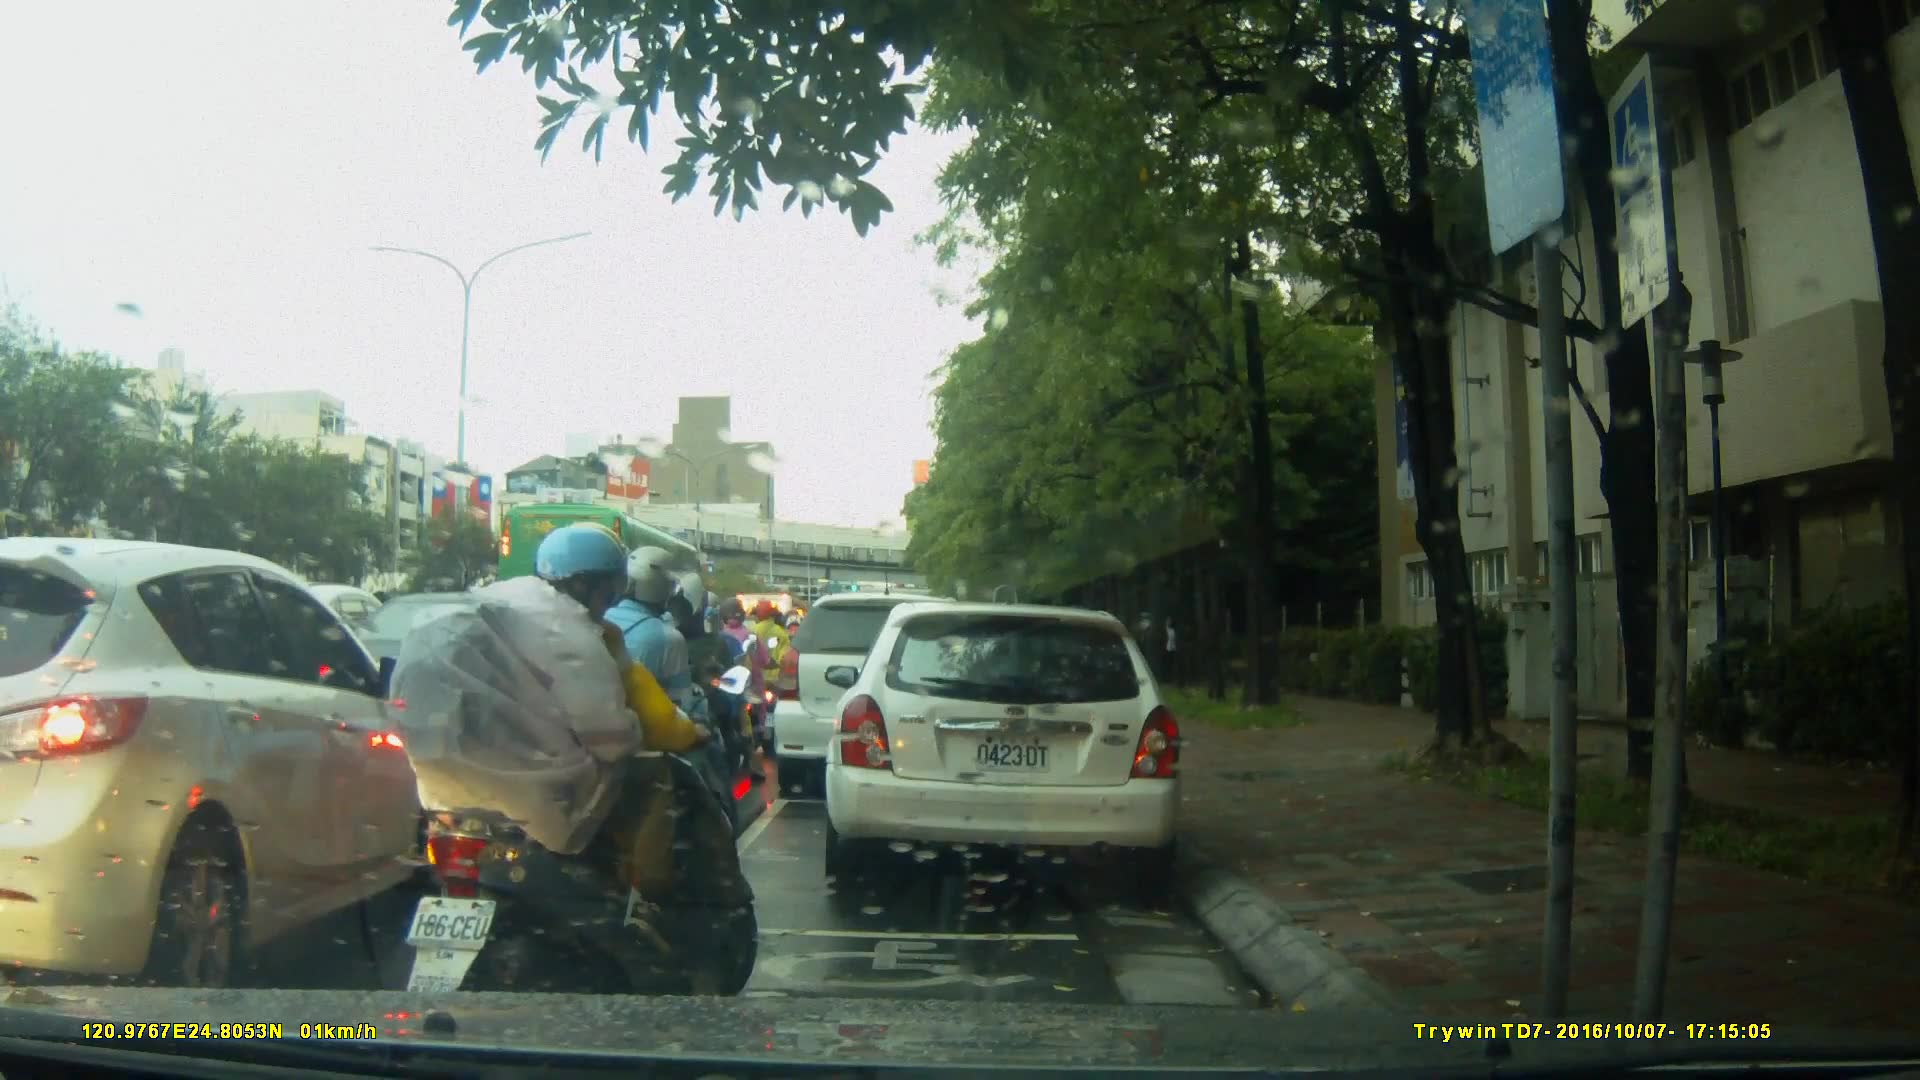rider: (386, 521, 760, 1058), (549, 535, 755, 921), (613, 562, 722, 826), (688, 585, 767, 787), (707, 598, 779, 764), (749, 598, 797, 737)
vehicle: (2, 536, 456, 987), (831, 592, 1196, 897), (312, 590, 629, 776), (774, 590, 999, 803), (498, 501, 712, 636)
